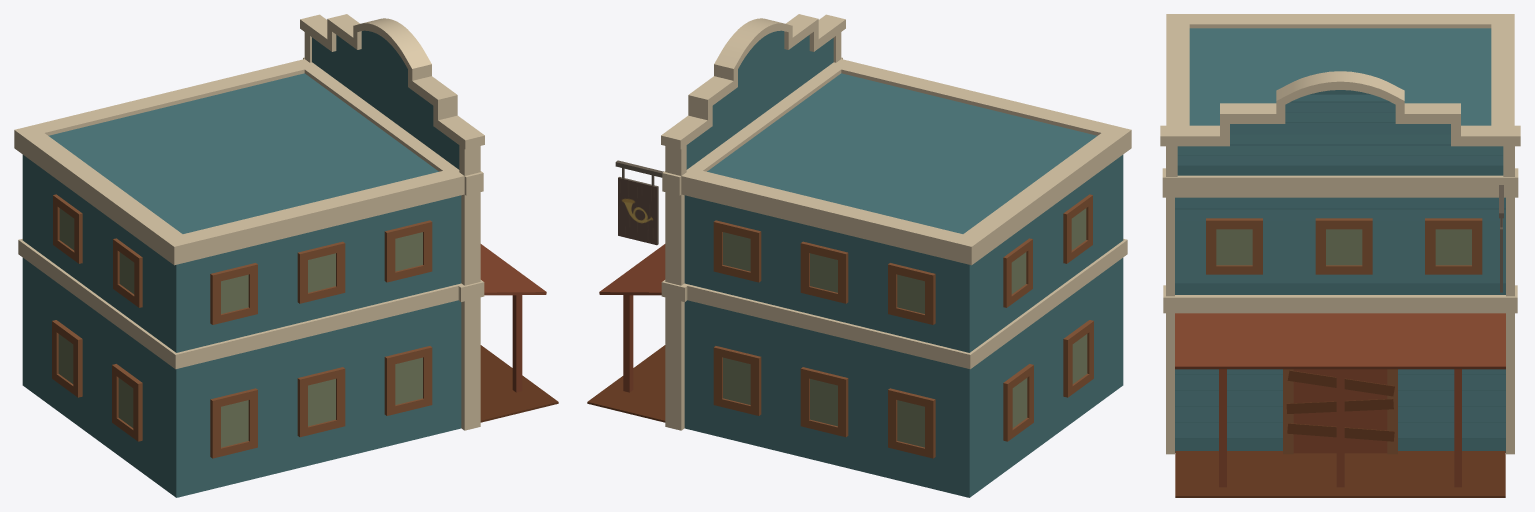
File: Poststation_Einzelobjekt.fbx
The picture shows the model from 3 angles, left to right: view 1: azimuth 30°, elevation 25°; view 2: azimuth 150°, elevation 25°; view 3: azimuth 270°, elevation 25°; orthographic projection. The views are drawn at different scales.
Visible parts, largest first — view 1: Korpus.004; view 2: Korpus.004; view 3: Korpus.004.
Part boxes in pixels (left/top/right/bottom): Korpus.004: left=14, top=14, right=558, bottom=497; Korpus.004: left=587, top=14, right=1131, bottom=497; Korpus.004: left=1160, top=14, right=1520, bottom=497.
Bounding box in the file's own units: 884 × 746 × 651.
